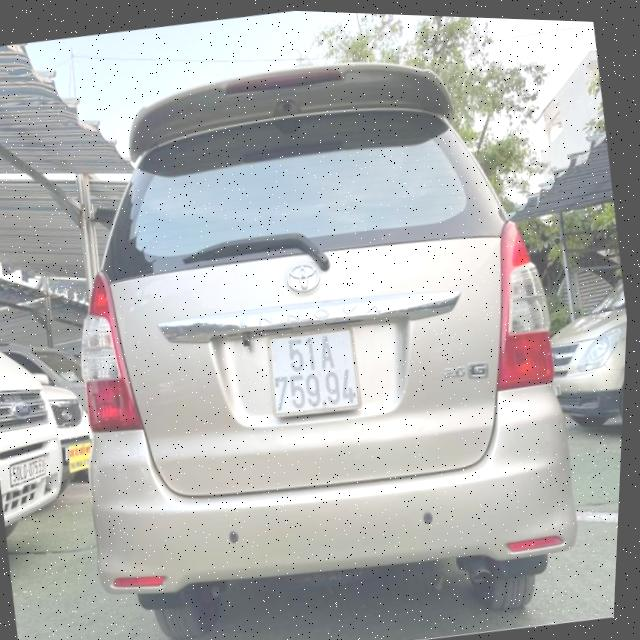car: (23, 16, 616, 640), (0, 239, 111, 575), (533, 242, 630, 461)
plate: (249, 313, 375, 433), (0, 446, 67, 500)
